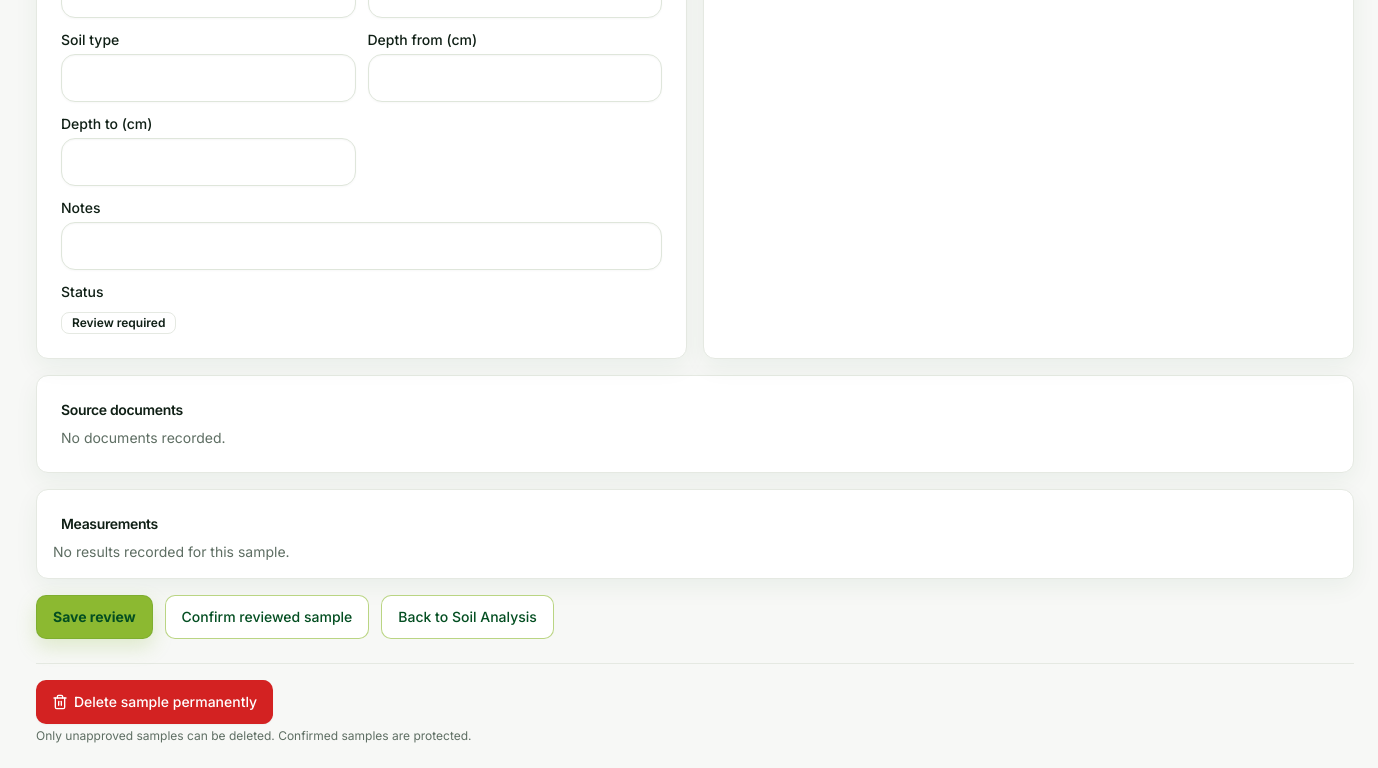
Test: Soil Analysis back navigation › sample detail footer action returns to /soil-analysis
(page scrolled)
Click the button "Back to Soil Analysis" at coordinates (468, 617), box [381, 595, 554, 639]
(page scrolled)
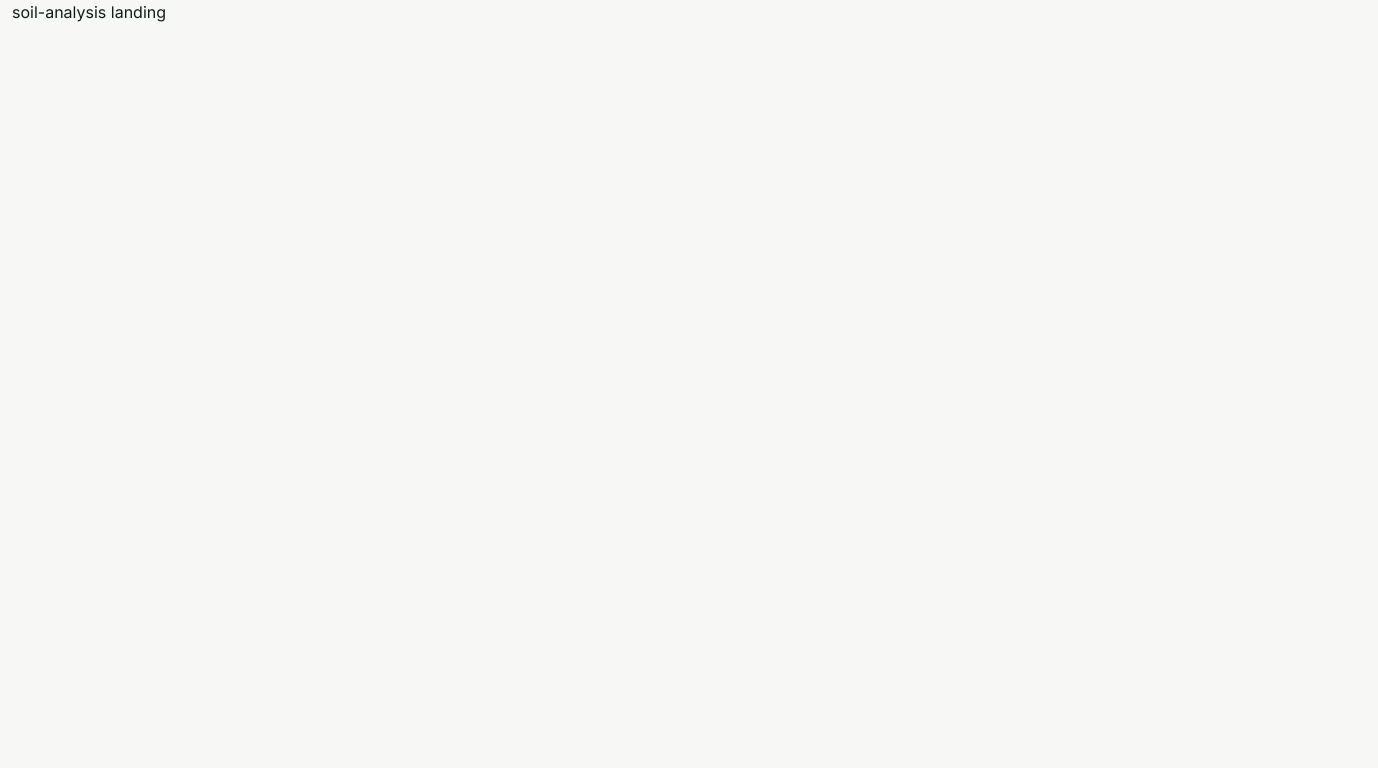
Result: the text "soil-analysis landing" is shown at [12, 2, 166, 22]
